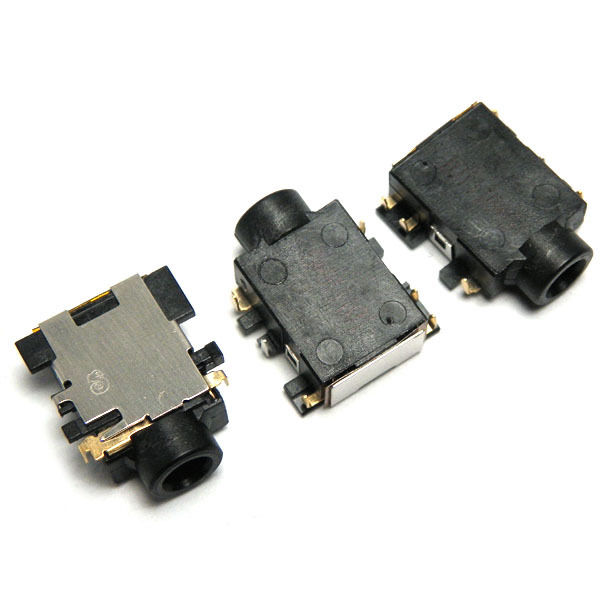aud: (4, 263, 235, 508), (227, 178, 447, 420), (374, 101, 597, 316)
